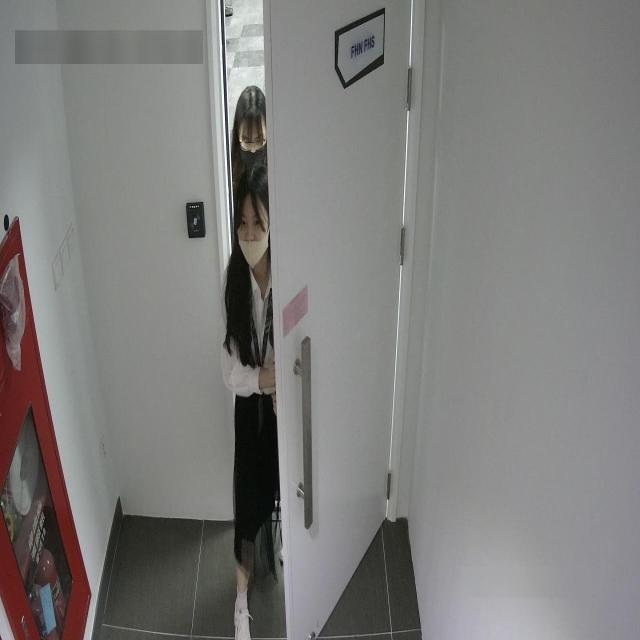hairnet: (238, 208, 268, 268)
